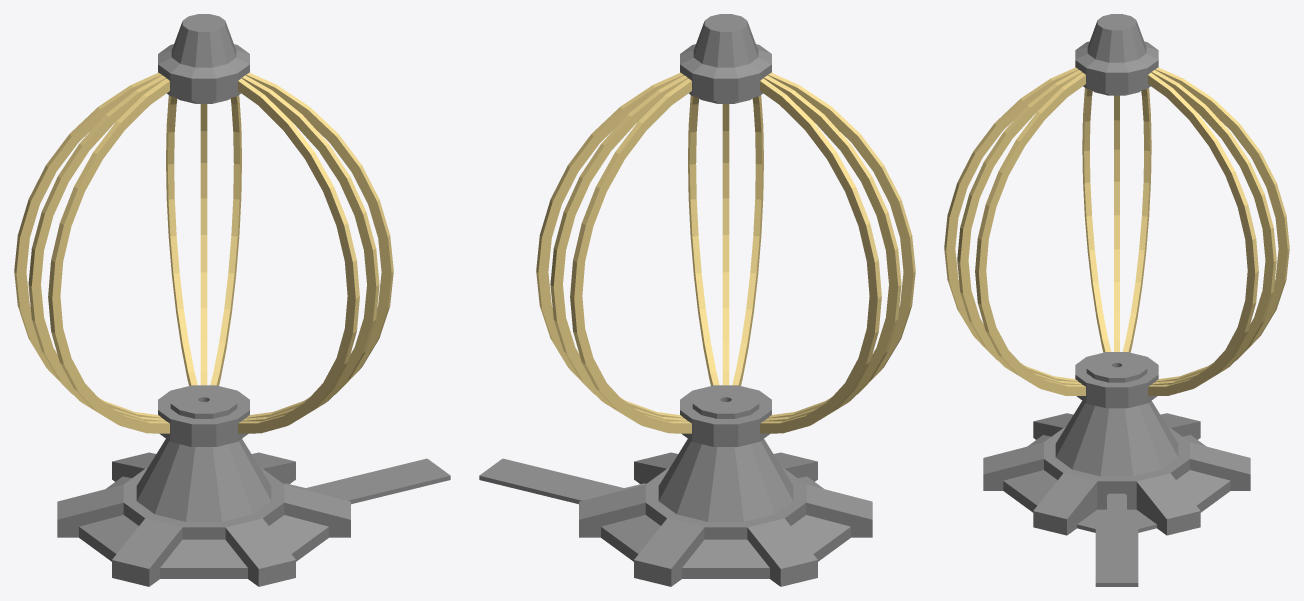
The model's file is SM_FacilityBase.FBX.
3 renders of one model, left to right at view 1: azimuth 30°, elevation 25°; view 2: azimuth 150°, elevation 25°; view 3: azimuth 270°, elevation 25°, orthographic. The views are drawn at different scales.
Visible parts, largest first — view 1: SM_MapModel_FacilityDeviceStructure_2; view 2: SM_MapModel_FacilityDeviceStructure_2; view 3: SM_MapModel_FacilityDeviceStructure_2.
Boxes of the visible parts, x1,y1,x2,y2 form: SM_MapModel_FacilityDeviceStructure_2: (14, 14, 450, 586); SM_MapModel_FacilityDeviceStructure_2: (479, 14, 915, 586); SM_MapModel_FacilityDeviceStructure_2: (944, 14, 1289, 586).
Size of the model in its own units: 61434 by 72592 by 49390.
